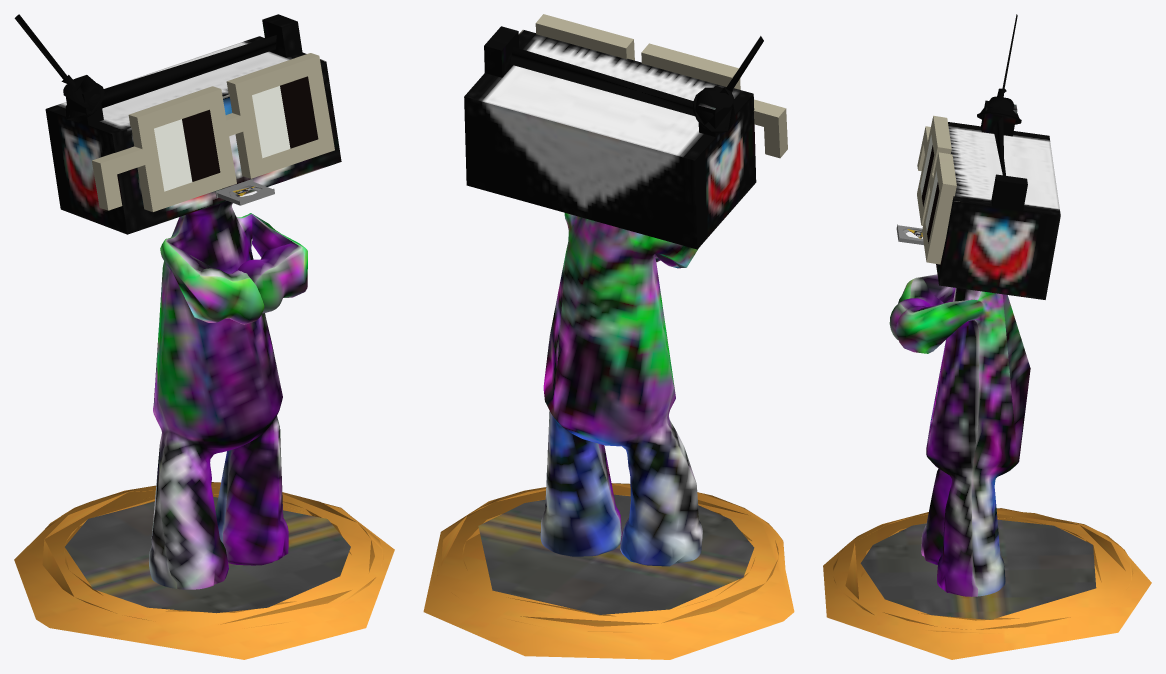
The model's file is out_bOOBOXBODY_Mat_1_Mat_1.baked.001_LOD1_109_LOD.glb.
3 views of the same model, side by side, from view 1: azimuth 30°, elevation 25°; view 2: azimuth 150°, elevation 25°; view 3: azimuth 270°, elevation 25° (orthographic). The views are drawn at different scales.
Parts seen in each view (by area): view 1: bOOBOXBODY_Mat_1_Mat_1.baked.001_LOD1; view 2: bOOBOXBODY_Mat_1_Mat_1.baked.001_LOD1; view 3: bOOBOXBODY_Mat_1_Mat_1.baked.001_LOD1.
Boxes of the visible parts, x1,y1,x2,y2 form: bOOBOXBODY_Mat_1_Mat_1.baked.001_LOD1: [14, 14, 394, 659]; bOOBOXBODY_Mat_1_Mat_1.baked.001_LOD1: [423, 14, 794, 659]; bOOBOXBODY_Mat_1_Mat_1.baked.001_LOD1: [823, 14, 1151, 659].
Size of the model in its own units: 1.44 by 2.38 by 1.4.
Materials: 10 (6 with a texture image).
